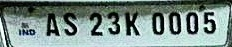character: (62, 11, 78, 36), (124, 11, 140, 36), (45, 12, 60, 37), (88, 12, 103, 37), (106, 11, 120, 35), (151, 11, 164, 36), (168, 10, 181, 35), (185, 11, 199, 34), (203, 10, 216, 34)
